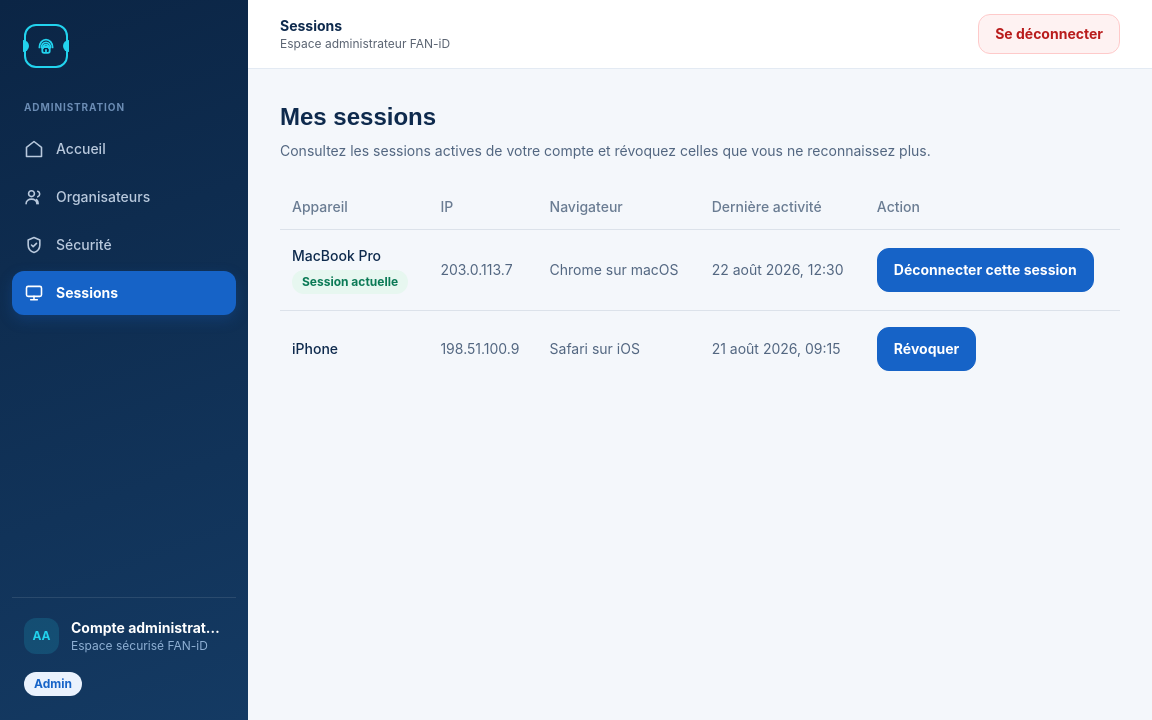
it: SessionsPage › conserve la liste et l’authentification lorsqu’une révocation échoue
Expected: the text "iPhone" is shown, x1=292 y1=340 x2=338 y2=357
Click the button "Révoquer": x=926, y=349 x1=877 y1=327 x2=976 y2=371
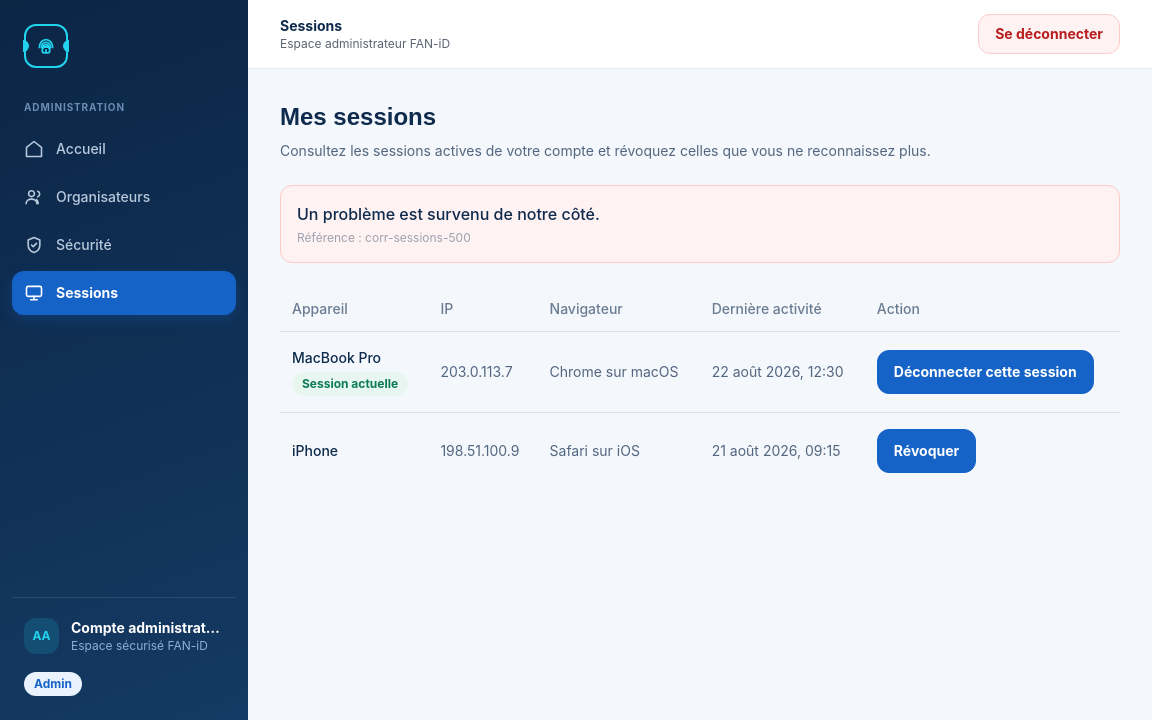
Expected: the text "iPhone" is shown, x1=292 y1=442 x2=338 y2=459
Expected: the text "Un problème est survenu de notre côté." is shown, x1=297 y1=204 x2=600 y2=224
